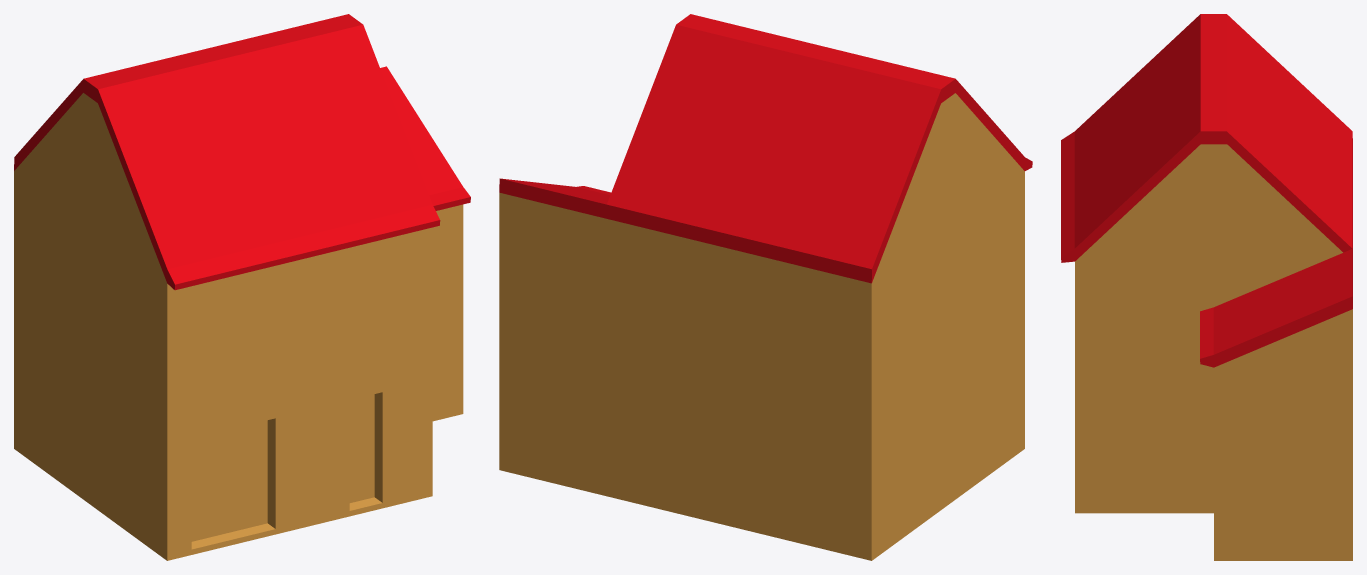
Rendered from SM_Casa1.fbx.
The picture shows the model from 3 angles, left to right: view 1: azimuth 30°, elevation 25°; view 2: azimuth 150°, elevation 25°; view 3: azimuth 270°, elevation 25°; orthographic projection. The views are drawn at different scales.
Visible parts, largest first — view 1: SM_casa 1; view 2: SM_casa 1; view 3: SM_casa 1.
Part boxes in pixels (box(x1,y1,x2,y2)): SM_casa 1: box(14, 14, 470, 560); SM_casa 1: box(499, 14, 1032, 560); SM_casa 1: box(1061, 14, 1352, 560).
Bounding box in the file's own units: 1475 × 1593 × 1103.
